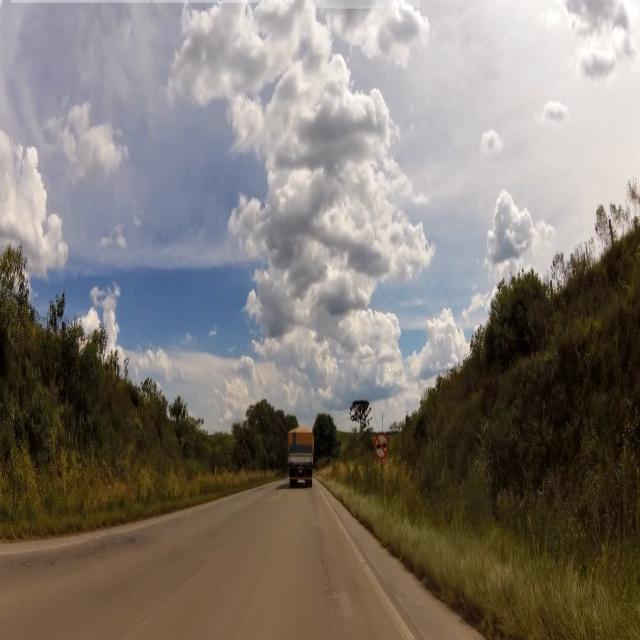R-7: (375, 432, 389, 460)
